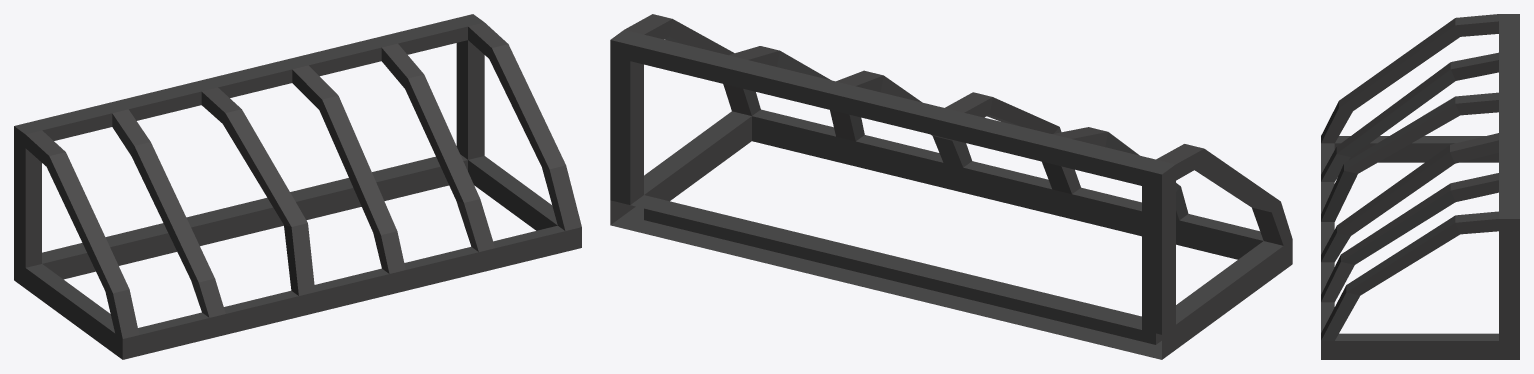
File: SM_Prop_BikeStand_01.fbx
3 renders of one model, left to right at view 1: azimuth 30°, elevation 25°; view 2: azimuth 150°, elevation 25°; view 3: azimuth 270°, elevation 25°, orthographic. The views are drawn at different scales.
Visible parts, largest first — view 1: SM_Prop_BikeStand_01; view 2: SM_Prop_BikeStand_01; view 3: SM_Prop_BikeStand_01.
Boxes of the visible parts, x1,y1,x2,y2 form: SM_Prop_BikeStand_01: (14,14,581,359); SM_Prop_BikeStand_01: (610,14,1292,359); SM_Prop_BikeStand_01: (1321,14,1519,359).
Size of the model in its own units: 141 by 45.43 by 58.03.
